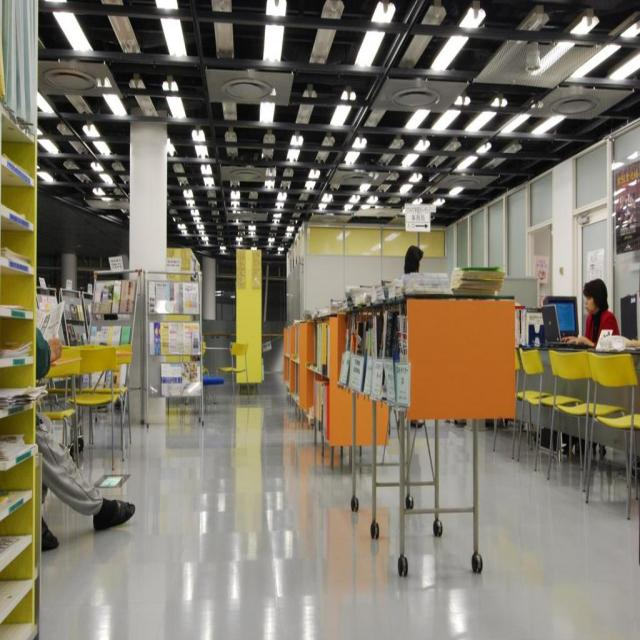chair: (584, 352, 640, 516), (545, 348, 594, 489), (74, 345, 122, 453), (514, 346, 546, 464)
desk: (510, 350, 639, 460)
laptop: (542, 300, 592, 345)
person: (31, 326, 136, 548), (580, 278, 620, 345), (404, 244, 424, 276)
